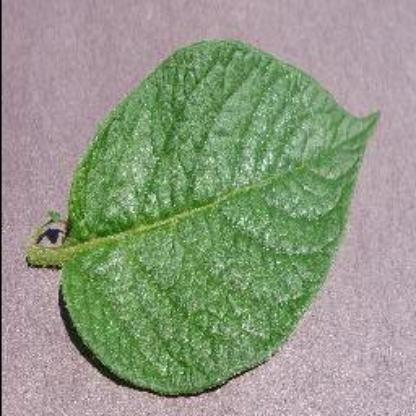Healthy-plant: (12, 24, 384, 402)
